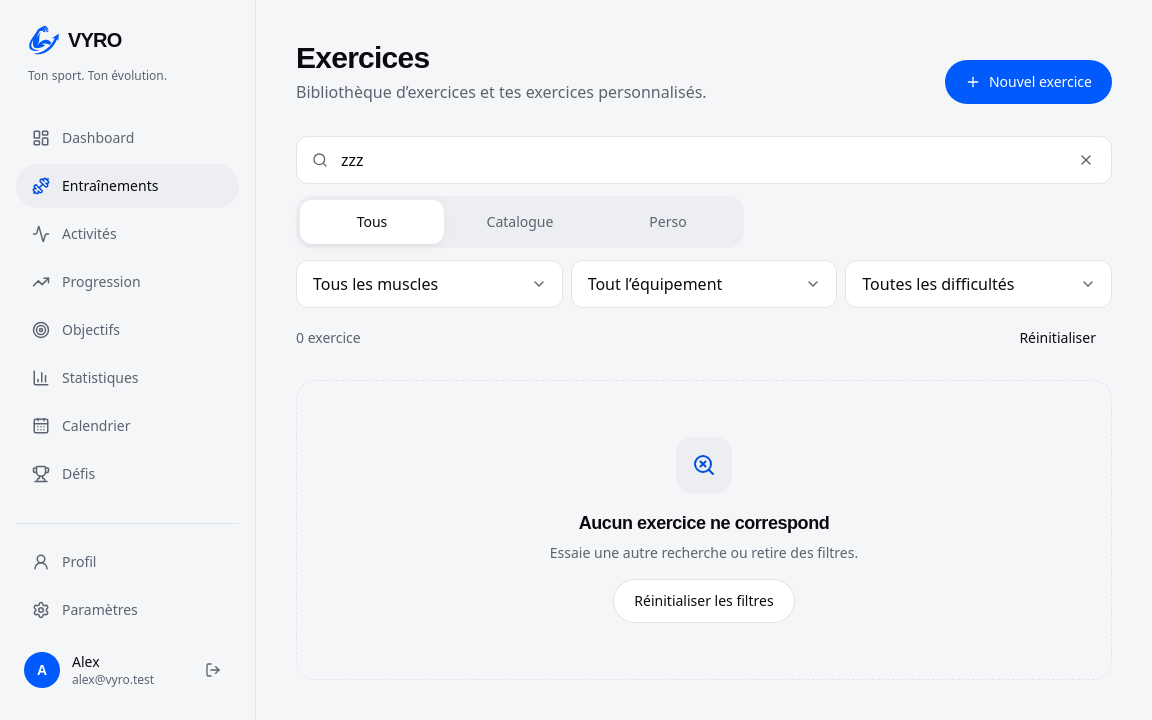
it: Exercise library › explains an empty result and resets the filters
The width and height of the screenshot is (1152, 720).
Expected: the heading "Aucun exercice ne correspond" is shown, x1=579 y1=513 x2=829 y2=533
Click the button "Réinitialiser les filtres" at x=704, y=601, box x1=613 y1=579 x2=795 y2=623
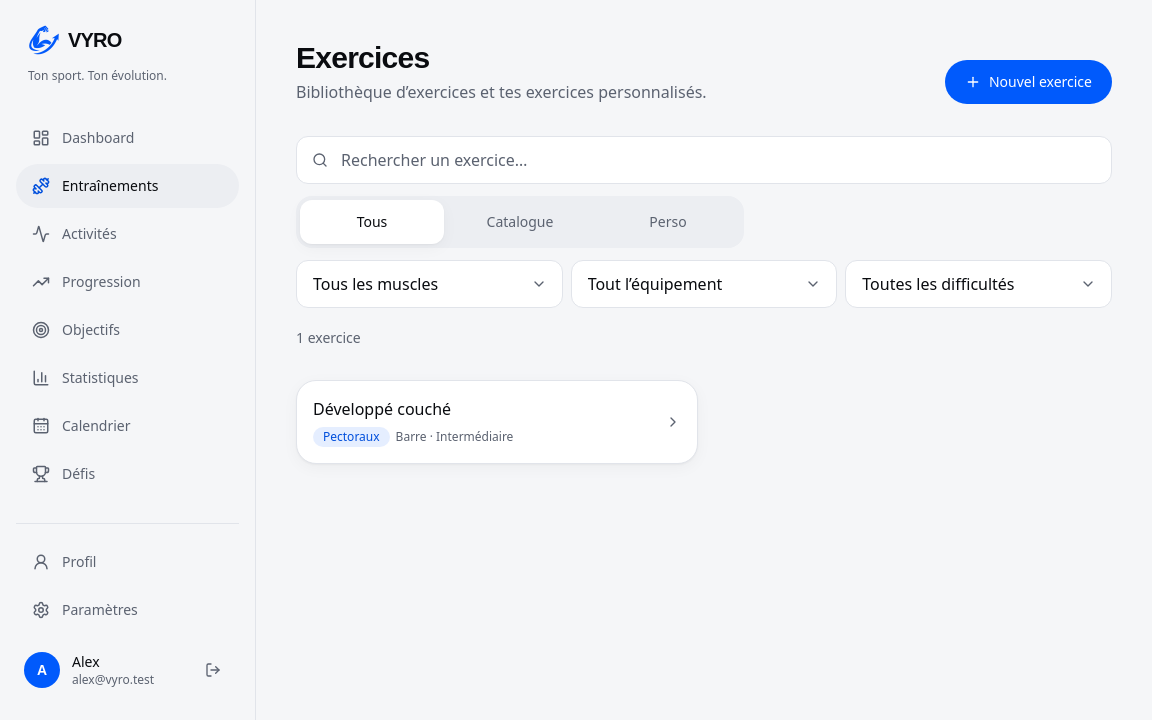
Expected: the text "1 exercice" is shown, x1=296 y1=328 x2=361 y2=348
